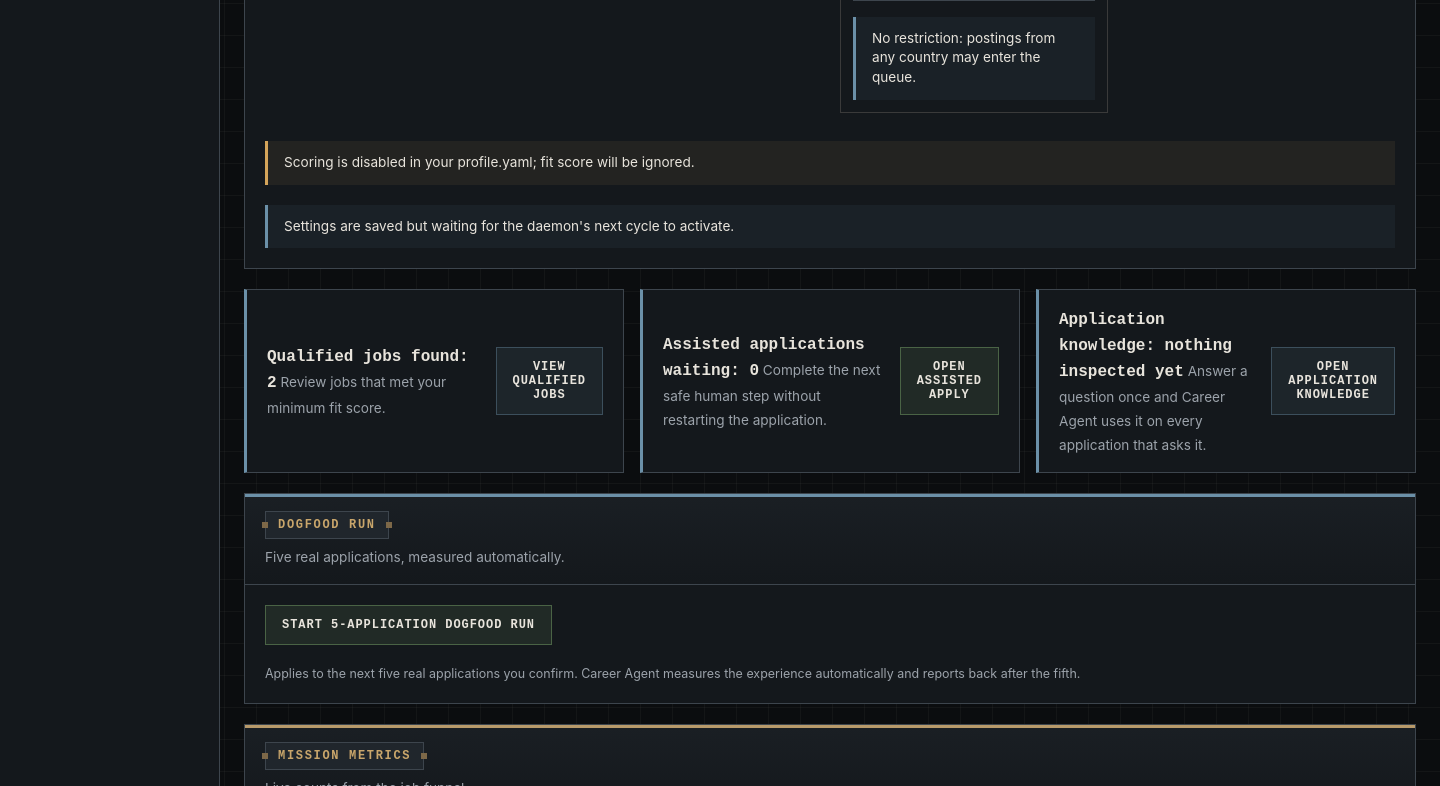
Test: Fast triage › keeps a real button for every shortcut
The width and height of the screenshot is (1440, 786).
(page scrolled)
Step 1. Click the button "View Qualified Jobs" → (549, 381), box [496,347,603,415]
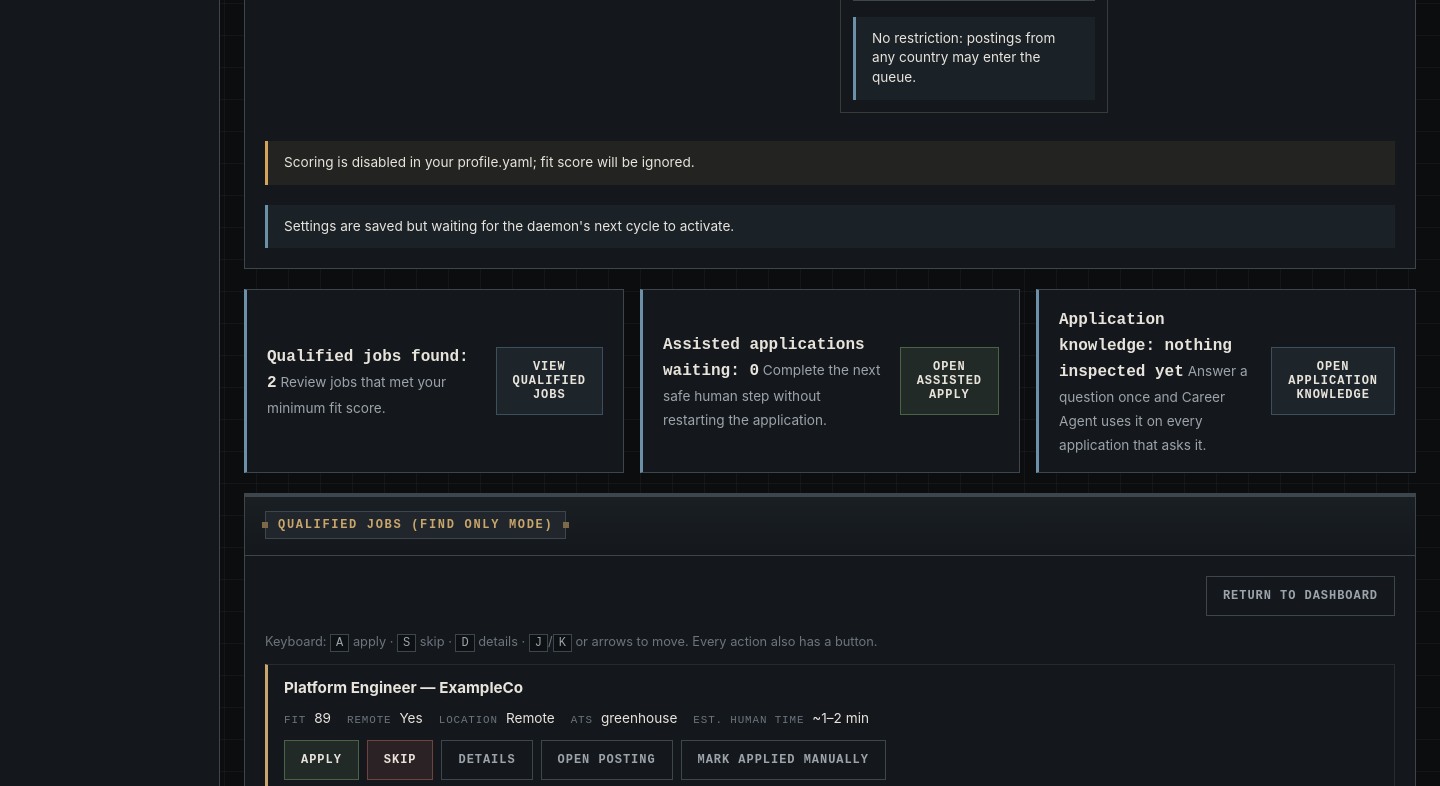
Expected: the number of buttons "Apply" is 2
Expected: the number of buttons "Skip" is 2
Expected: the number of buttons "Details" is 2
